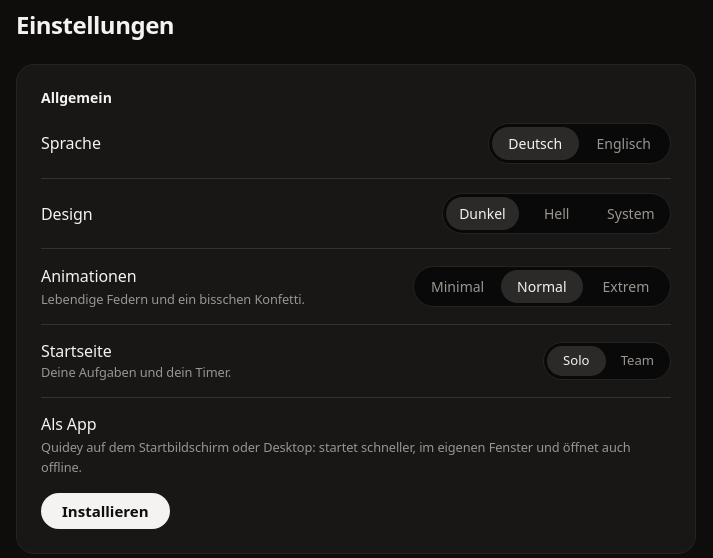
Test case: install as app (settings) › offers the browser install dialog once it is available
Step 1. Click the button "Installieren" → (105, 511), box x1=41 y1=493 x2=170 y2=529
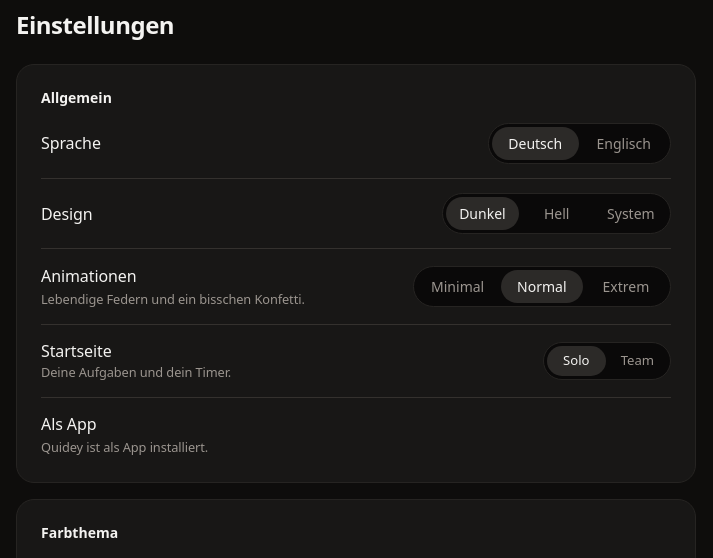
Now the text "Quidey ist als App installiert." is shown, box x1=41 y1=438 x2=208 y2=458
Now the button "Installieren" is gone
